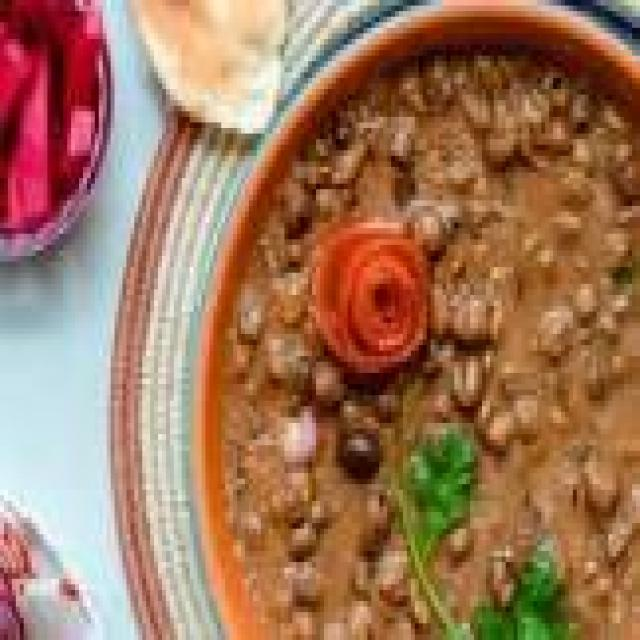fool: (217, 44, 639, 640)
